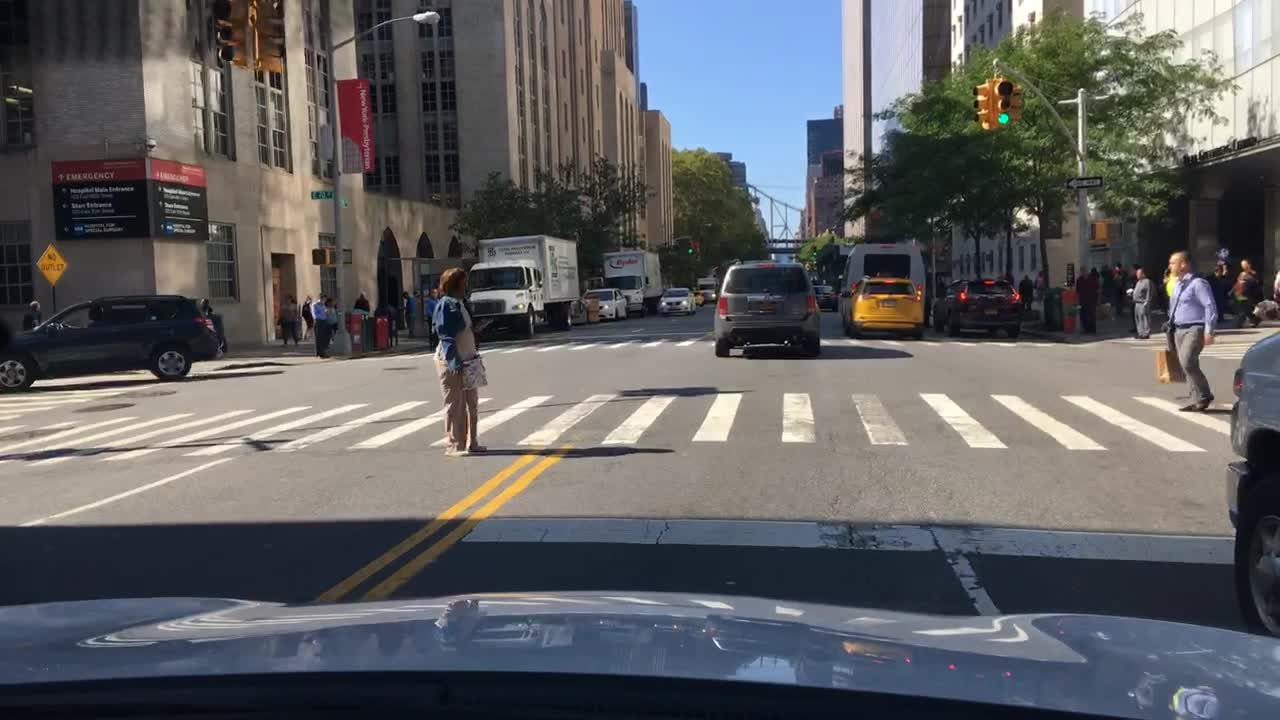car: (0, 293, 222, 391), (1223, 329, 1279, 638), (712, 260, 816, 361), (931, 277, 1024, 341), (838, 272, 923, 341), (582, 287, 626, 320), (653, 287, 697, 320), (813, 280, 842, 309), (690, 288, 705, 307)
person: (428, 263, 489, 455), (1152, 248, 1216, 413), (1221, 256, 1264, 331), (1125, 266, 1154, 341), (1076, 261, 1100, 341), (1250, 266, 1279, 329), (309, 288, 334, 359), (1205, 263, 1230, 320), (276, 290, 300, 347), (1058, 277, 1080, 336), (1108, 258, 1129, 317), (425, 287, 442, 353), (1093, 260, 1115, 307), (297, 293, 315, 346), (396, 287, 415, 336), (322, 293, 337, 354), (1154, 268, 1171, 319), (1016, 273, 1036, 314), (20, 299, 44, 329), (1071, 266, 1092, 297), (1031, 266, 1044, 302), (351, 288, 368, 307), (199, 295, 206, 310)
traffic light: (211, 0, 249, 69), (256, 0, 282, 71), (992, 74, 1012, 128), (970, 81, 990, 130), (1005, 83, 1022, 121), (1086, 219, 1107, 241), (309, 246, 329, 266), (685, 236, 695, 255), (808, 241, 816, 260)
traffic sign: (33, 241, 67, 287), (1065, 177, 1100, 191), (307, 185, 336, 201), (339, 194, 351, 207)
truck: (460, 233, 577, 339), (835, 241, 924, 322), (597, 251, 663, 319), (697, 278, 720, 300)
